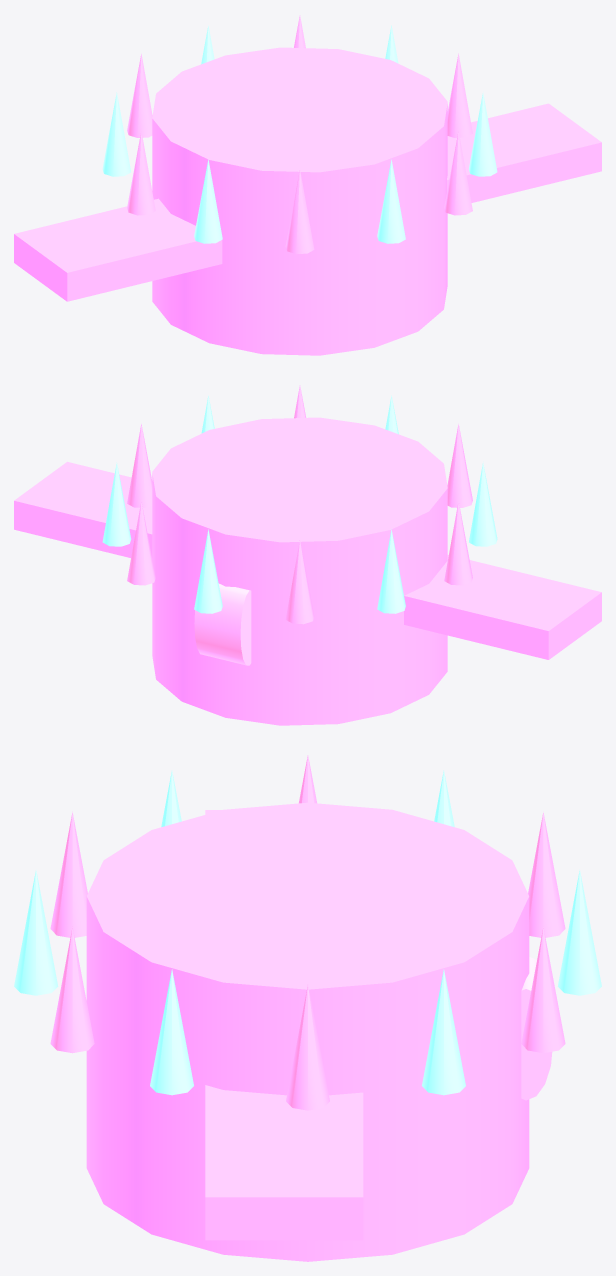
Rendered from region-boss-high.glb.
3 renders of one model, top to bottom at view 1: azimuth 30°, elevation 25°; view 2: azimuth 150°, elevation 25°; view 3: azimuth 270°, elevation 25°, orthographic. The views are drawn at different scales.
Visible parts, largest first — view 1: BOSS_CORE_BODY, LEFT_WING, RIGHT_WING, ENERGY_CROWN_1, ENERGY_CROWN_3, ENERGY_CROWN_5, ENERGY_CROWN_6, ENERGY_CROWN_7, ENERGY_CROWN_2, ENERGY_CROWN_4, ENERGY_CROWN_8, ENERGY_CROWN_0; view 2: BOSS_CORE_BODY, LEFT_WING, RIGHT_WING, BOSS_HEART, ENERGY_CROWN_9, ENERGY_CROWN_11, ENERGY_CROWN_7, ENERGY_CROWN_5, ENERGY_CROWN_6, ENERGY_CROWN_10, ENERGY_CROWN_8, ENERGY_CROWN_4 (+1 smaller); view 3: BOSS_CORE_BODY, RIGHT_WING, ENERGY_CROWN_3, ENERGY_CROWN_9, ENERGY_CROWN_1, ENERGY_CROWN_11, ENERGY_CROWN_0, ENERGY_CROWN_2, ENERGY_CROWN_10, ENERGY_CROWN_4, ENERGY_CROWN_8, BOSS_HEART.
Boxes of the visible parts, box(x1,y1,x2,y2) form: BOSS_CORE_BODY: box(152, 47, 447, 355); LEFT_WING: box(14, 198, 222, 301); RIGHT_WING: box(447, 103, 601, 202); ENERGY_CROWN_1: box(469, 92, 497, 176); ENERGY_CROWN_3: box(377, 159, 405, 243); ENERGY_CROWN_5: box(194, 159, 222, 243); ENERGY_CROWN_6: box(127, 131, 155, 215); ENERGY_CROWN_7: box(102, 92, 130, 176); ENERGY_CROWN_2: box(444, 131, 472, 215); ENERGY_CROWN_4: box(285, 170, 314, 254); ENERGY_CROWN_8: box(127, 53, 152, 137); ENERGY_CROWN_0: box(447, 53, 472, 137); BOSS_CORE_BODY: box(152, 417, 447, 725); LEFT_WING: box(404, 554, 601, 659); RIGHT_WING: box(14, 461, 152, 557); BOSS_HEART: box(194, 583, 251, 665); ENERGY_CROWN_9: box(194, 529, 222, 613); ENERGY_CROWN_11: box(102, 462, 131, 546); ENERGY_CROWN_7: box(377, 529, 405, 613); ENERGY_CROWN_5: box(469, 462, 497, 546); ENERGY_CROWN_6: box(444, 501, 472, 585); ENERGY_CROWN_10: box(127, 501, 155, 585); ENERGY_CROWN_8: box(285, 540, 314, 624); ENERGY_CROWN_4: box(447, 424, 472, 507); BOSS_CORE_BODY: box(86, 802, 529, 1261); RIGHT_WING: box(205, 1085, 363, 1240); ENERGY_CROWN_3: box(14, 869, 58, 995); ENERGY_CROWN_9: box(557, 869, 601, 995); ENERGY_CROWN_1: box(150, 969, 193, 1095); ENERGY_CROWN_11: box(422, 969, 465, 1095); ENERGY_CROWN_0: box(286, 985, 329, 1110); ENERGY_CROWN_2: box(50, 927, 94, 1053); ENERGY_CROWN_10: box(521, 927, 565, 1053); ENERGY_CROWN_4: box(50, 812, 87, 937); ENERGY_CROWN_8: box(528, 812, 565, 937); BOSS_HEART: box(521, 957, 552, 1100).
Bounding box in the file's own units: 5.8 × 2.09 × 3.72.
